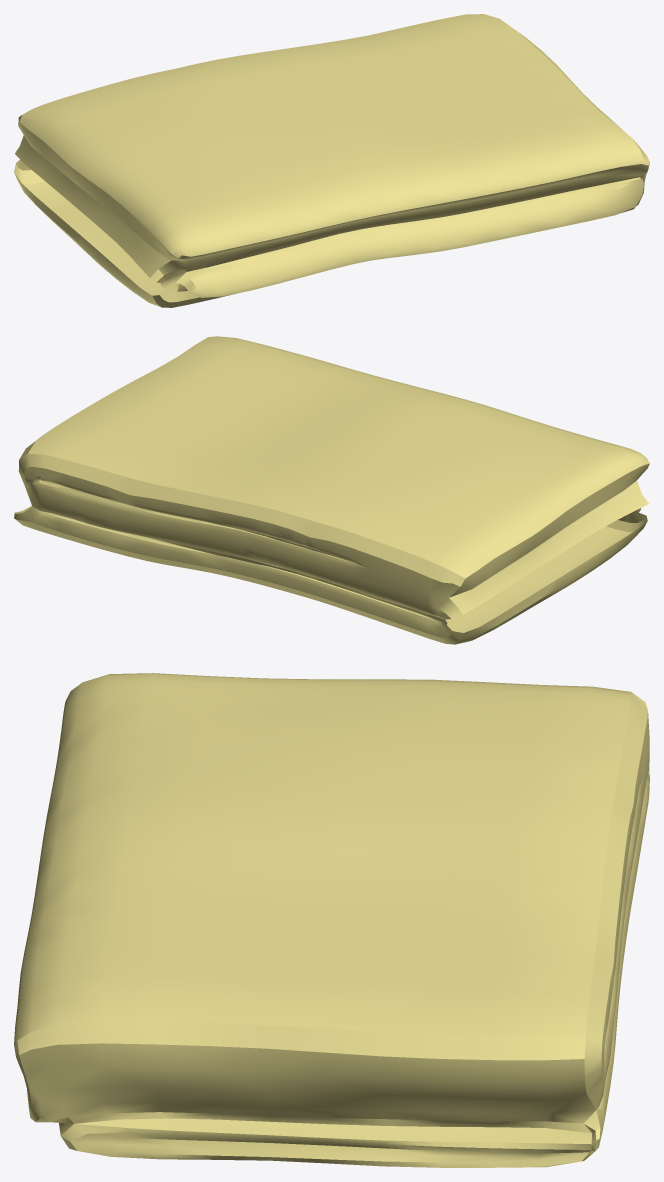
Rendered from SM_Towel_Flat_Yellow.fbx.
The picture shows the model from 3 angles, top to bottom: view 1: azimuth 30°, elevation 25°; view 2: azimuth 150°, elevation 25°; view 3: azimuth 270°, elevation 25°; orthographic projection. The views are drawn at different scales.
Visible parts, largest first — view 1: SM_Towel_Flat_Yellow; view 2: SM_Towel_Flat_Yellow; view 3: SM_Towel_Flat_Yellow.
Boxes of the visible parts, box(x1,y1,x2,y2) form: SM_Towel_Flat_Yellow: box(14, 14, 649, 307); SM_Towel_Flat_Yellow: box(14, 336, 649, 644); SM_Towel_Flat_Yellow: box(14, 673, 649, 1167).
Size of the model in its own units: 45.91 by 8.66 by 31.89.
